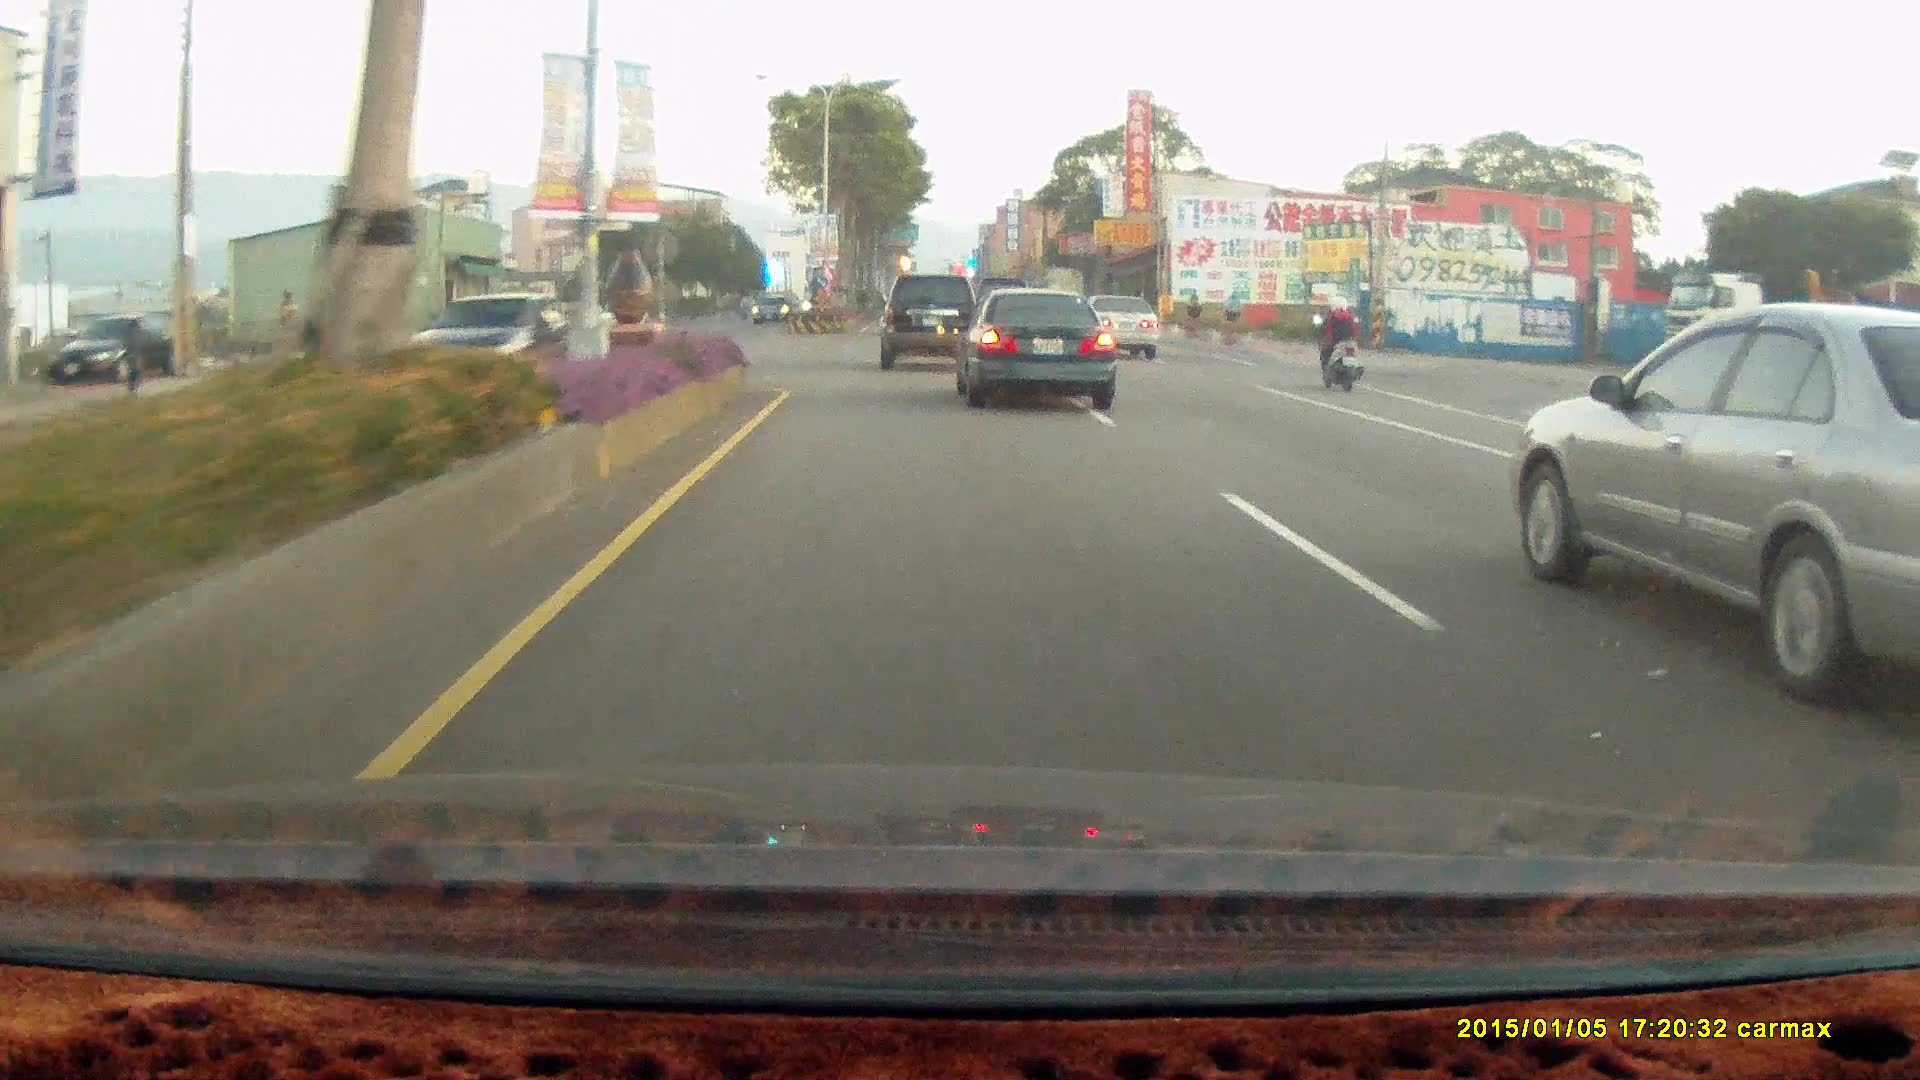pedestrian: (117, 318, 144, 393)
rider: (1303, 289, 1376, 402), (1308, 294, 1364, 391)
vehicle: (1516, 300, 1920, 706), (1659, 272, 1920, 376), (943, 291, 1108, 412), (961, 295, 1123, 416), (405, 289, 573, 388), (407, 294, 577, 390), (880, 274, 985, 374), (878, 273, 979, 370), (51, 313, 175, 388), (51, 313, 174, 387), (1078, 295, 1163, 362), (749, 297, 797, 330), (750, 294, 795, 325)
